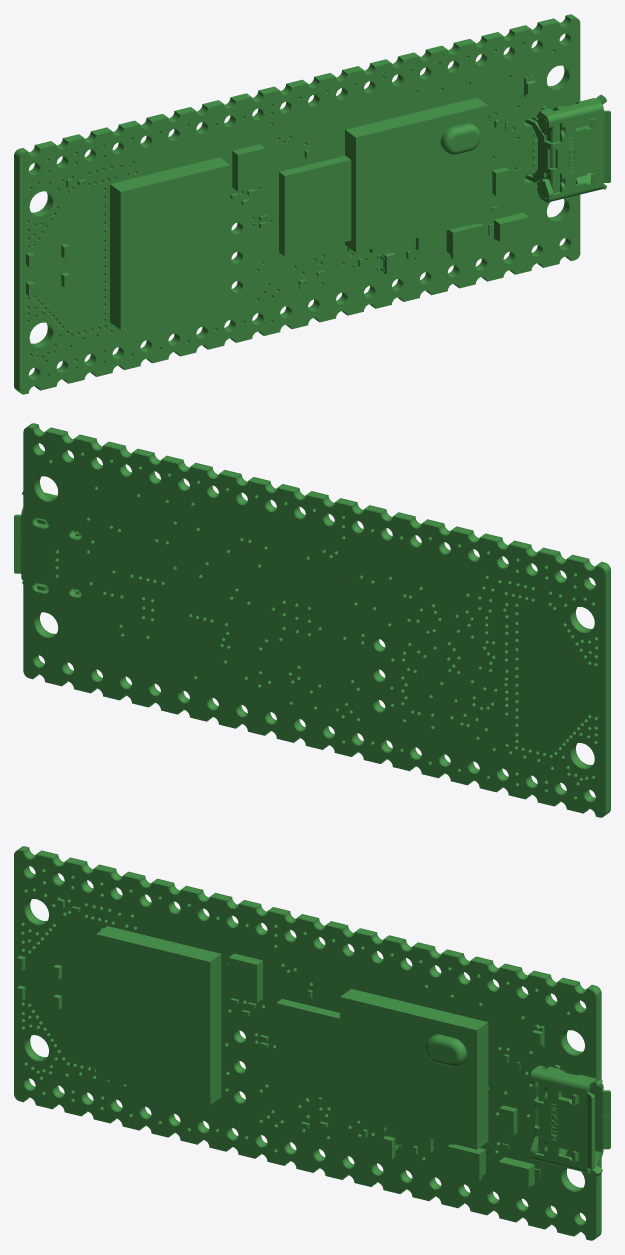
File: PicoW.obj
The picture shows the model from 3 angles, top to bottom: view 1: azimuth 30°, elevation 25°; view 2: azimuth 150°, elevation 25°; view 3: azimuth 330°, elevation 25°; orthographic projection. The views are drawn at different scales.
Visible parts, largest first — view 1: PicoW; view 2: PicoW; view 3: PicoW.
Part boxes in pixels (left/top/right/bottom): PicoW: left=14, top=14, right=610, bottom=394; PicoW: left=14, top=423, right=610, bottom=817; PicoW: left=14, top=846, right=610, bottom=1240.
Size of the model in its own units: 52.35 by 21 by 3.6.
